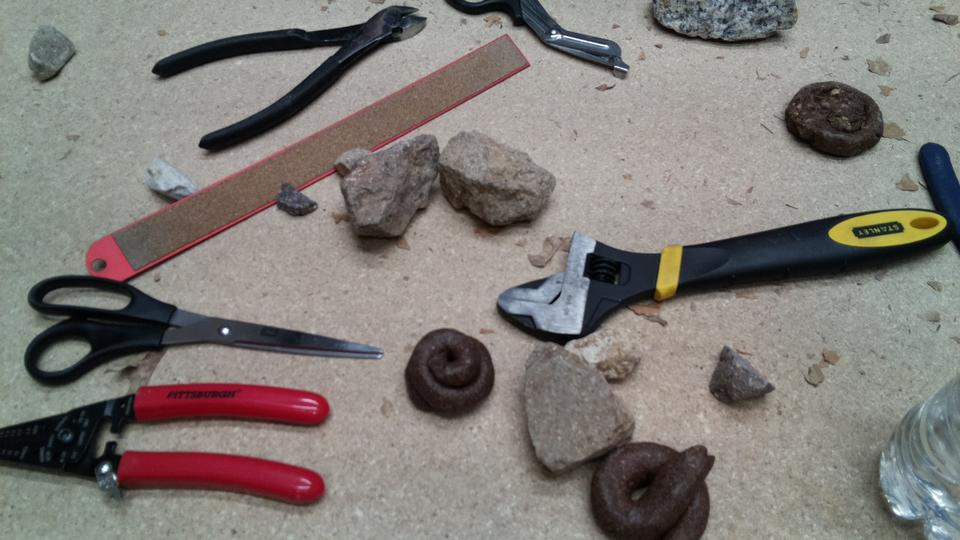poop: (586, 438, 717, 540), (402, 325, 498, 421), (783, 79, 887, 163)
